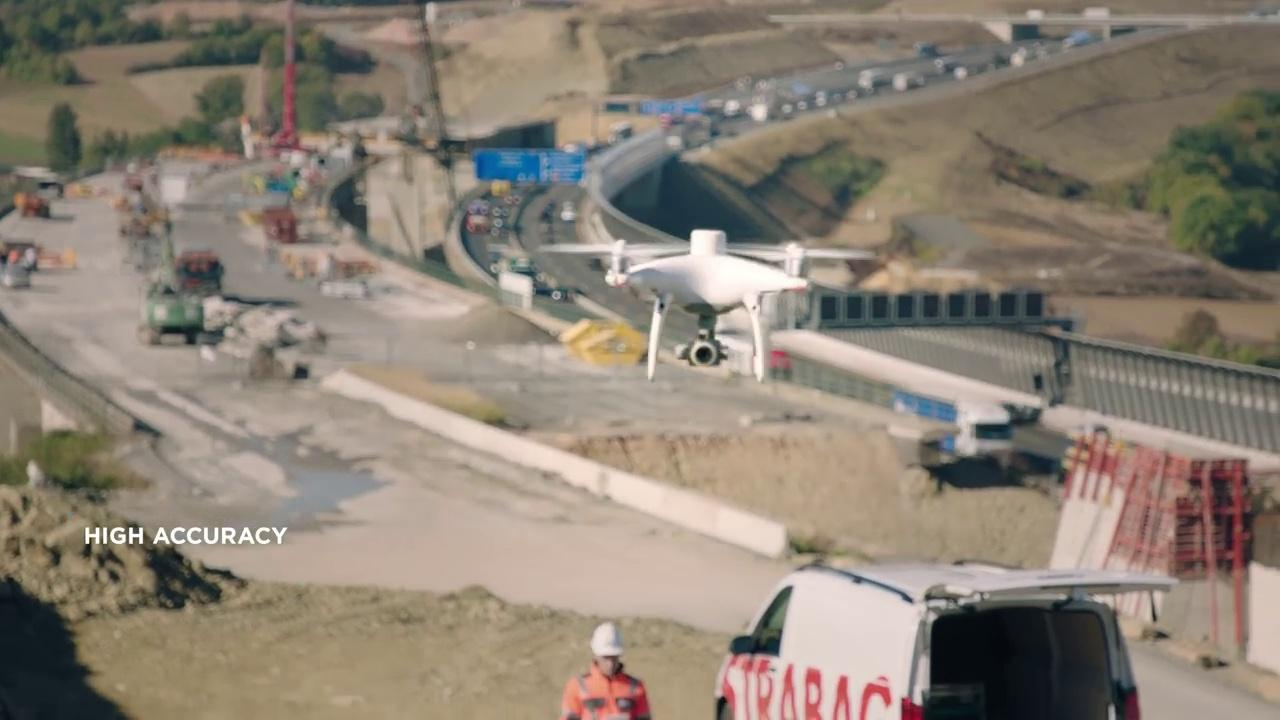drone: (541, 224, 876, 385)
